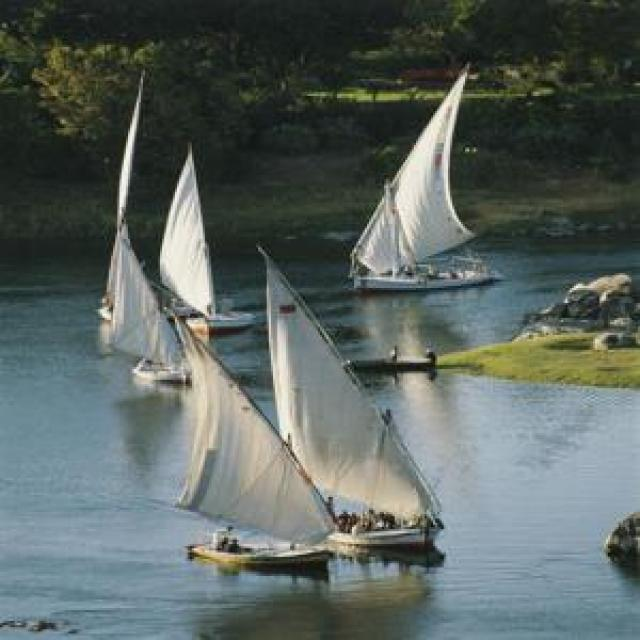sailboat: (248, 245, 447, 553), (171, 323, 328, 574), (362, 65, 506, 287), (155, 142, 262, 330), (86, 61, 153, 318), (108, 226, 188, 380)
